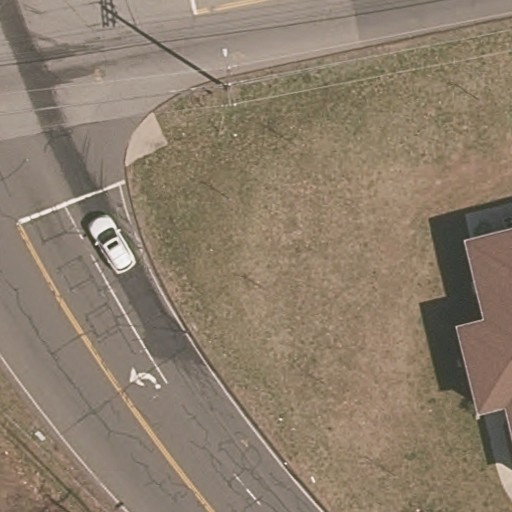DT: (207, 41, 250, 117)
